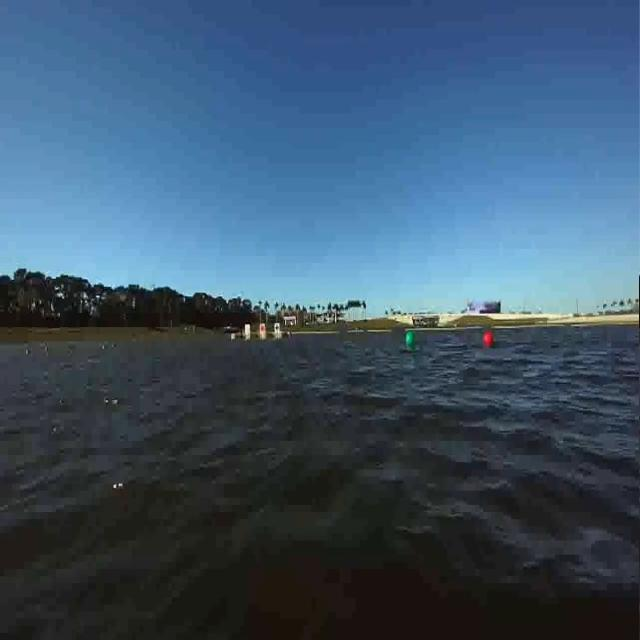red-buoy: (484, 332, 495, 349), (404, 331, 415, 348)
